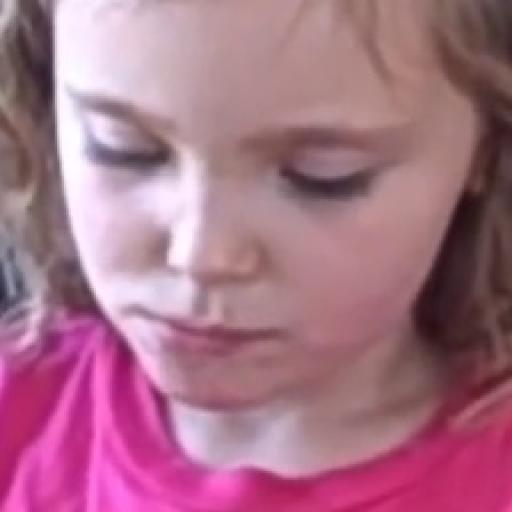Autism: (27, 0, 512, 437)
